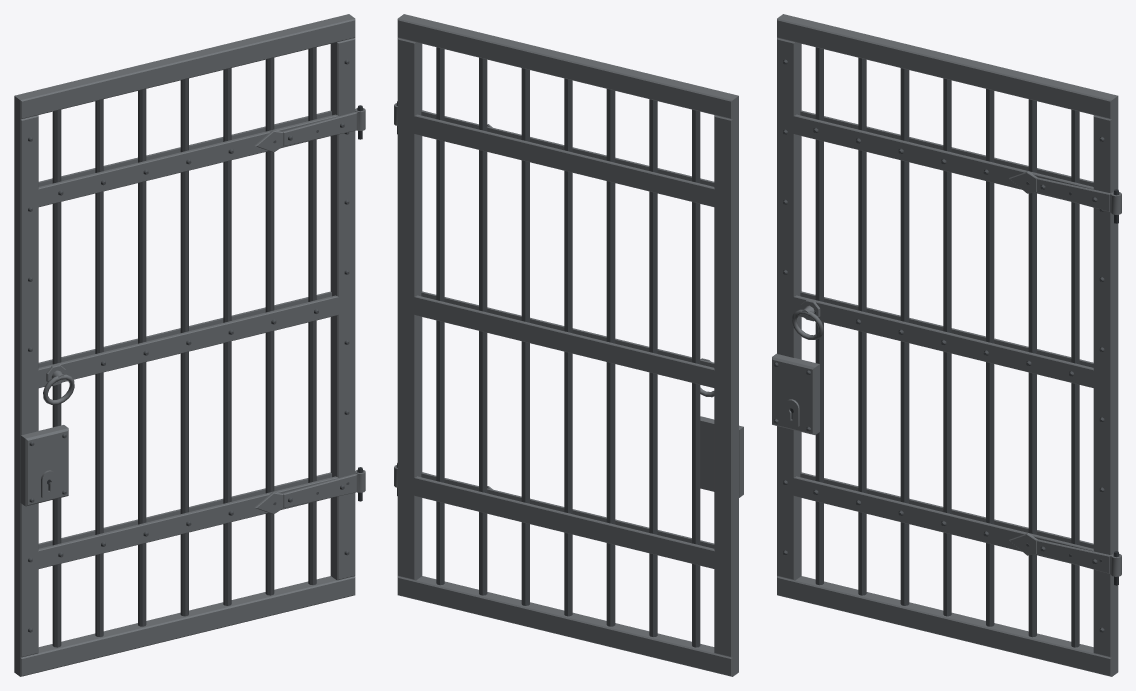
Rendered from SM_LPD_Door_CellDoorBars_01.fbx.
3 views of the same model, side by side, from view 1: azimuth 30°, elevation 25°; view 2: azimuth 150°, elevation 25°; view 3: azimuth 330°, elevation 25° (orthographic).
Parts seen in each view (by area): view 1: SM_LPD_Door_CellDoorBars_01; view 2: SM_LPD_Door_CellDoorBars_01; view 3: SM_LPD_Door_CellDoorBars_01.
Part boxes in pixels (<box>): SM_LPD_Door_CellDoorBars_01: <box>14,14,365,676</box>; SM_LPD_Door_CellDoorBars_01: <box>394,14,743,676</box>; SM_LPD_Door_CellDoorBars_01: <box>772,14,1121,676</box>.
Bounding box in the file's own units: 1.59 × 2.55 × 0.113.
